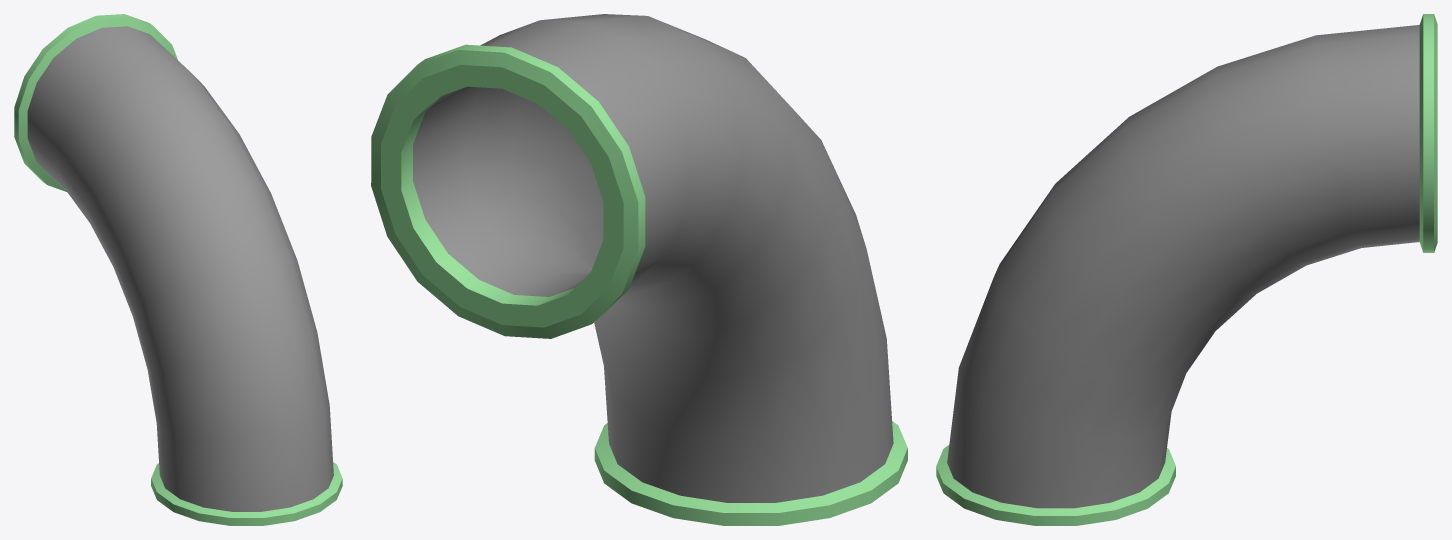
Rendered from Entity_PipeCurveLarge.FBX.
3 views of the same model, side by side, from view 1: azimuth 30°, elevation 25°; view 2: azimuth 150°, elevation 25°; view 3: azimuth 270°, elevation 25° (orthographic). The views are drawn at different scales.
Visible parts, largest first — view 1: Torus003; view 2: Torus003; view 3: Torus003.
Boxes of the visible parts, box(x1,y1,x2,y2) form: Torus003: box(14, 14, 342, 525); Torus003: box(371, 14, 907, 525); Torus003: box(936, 14, 1437, 525).
Bounding box in the file's own units: 65.06 × 138 × 138.
